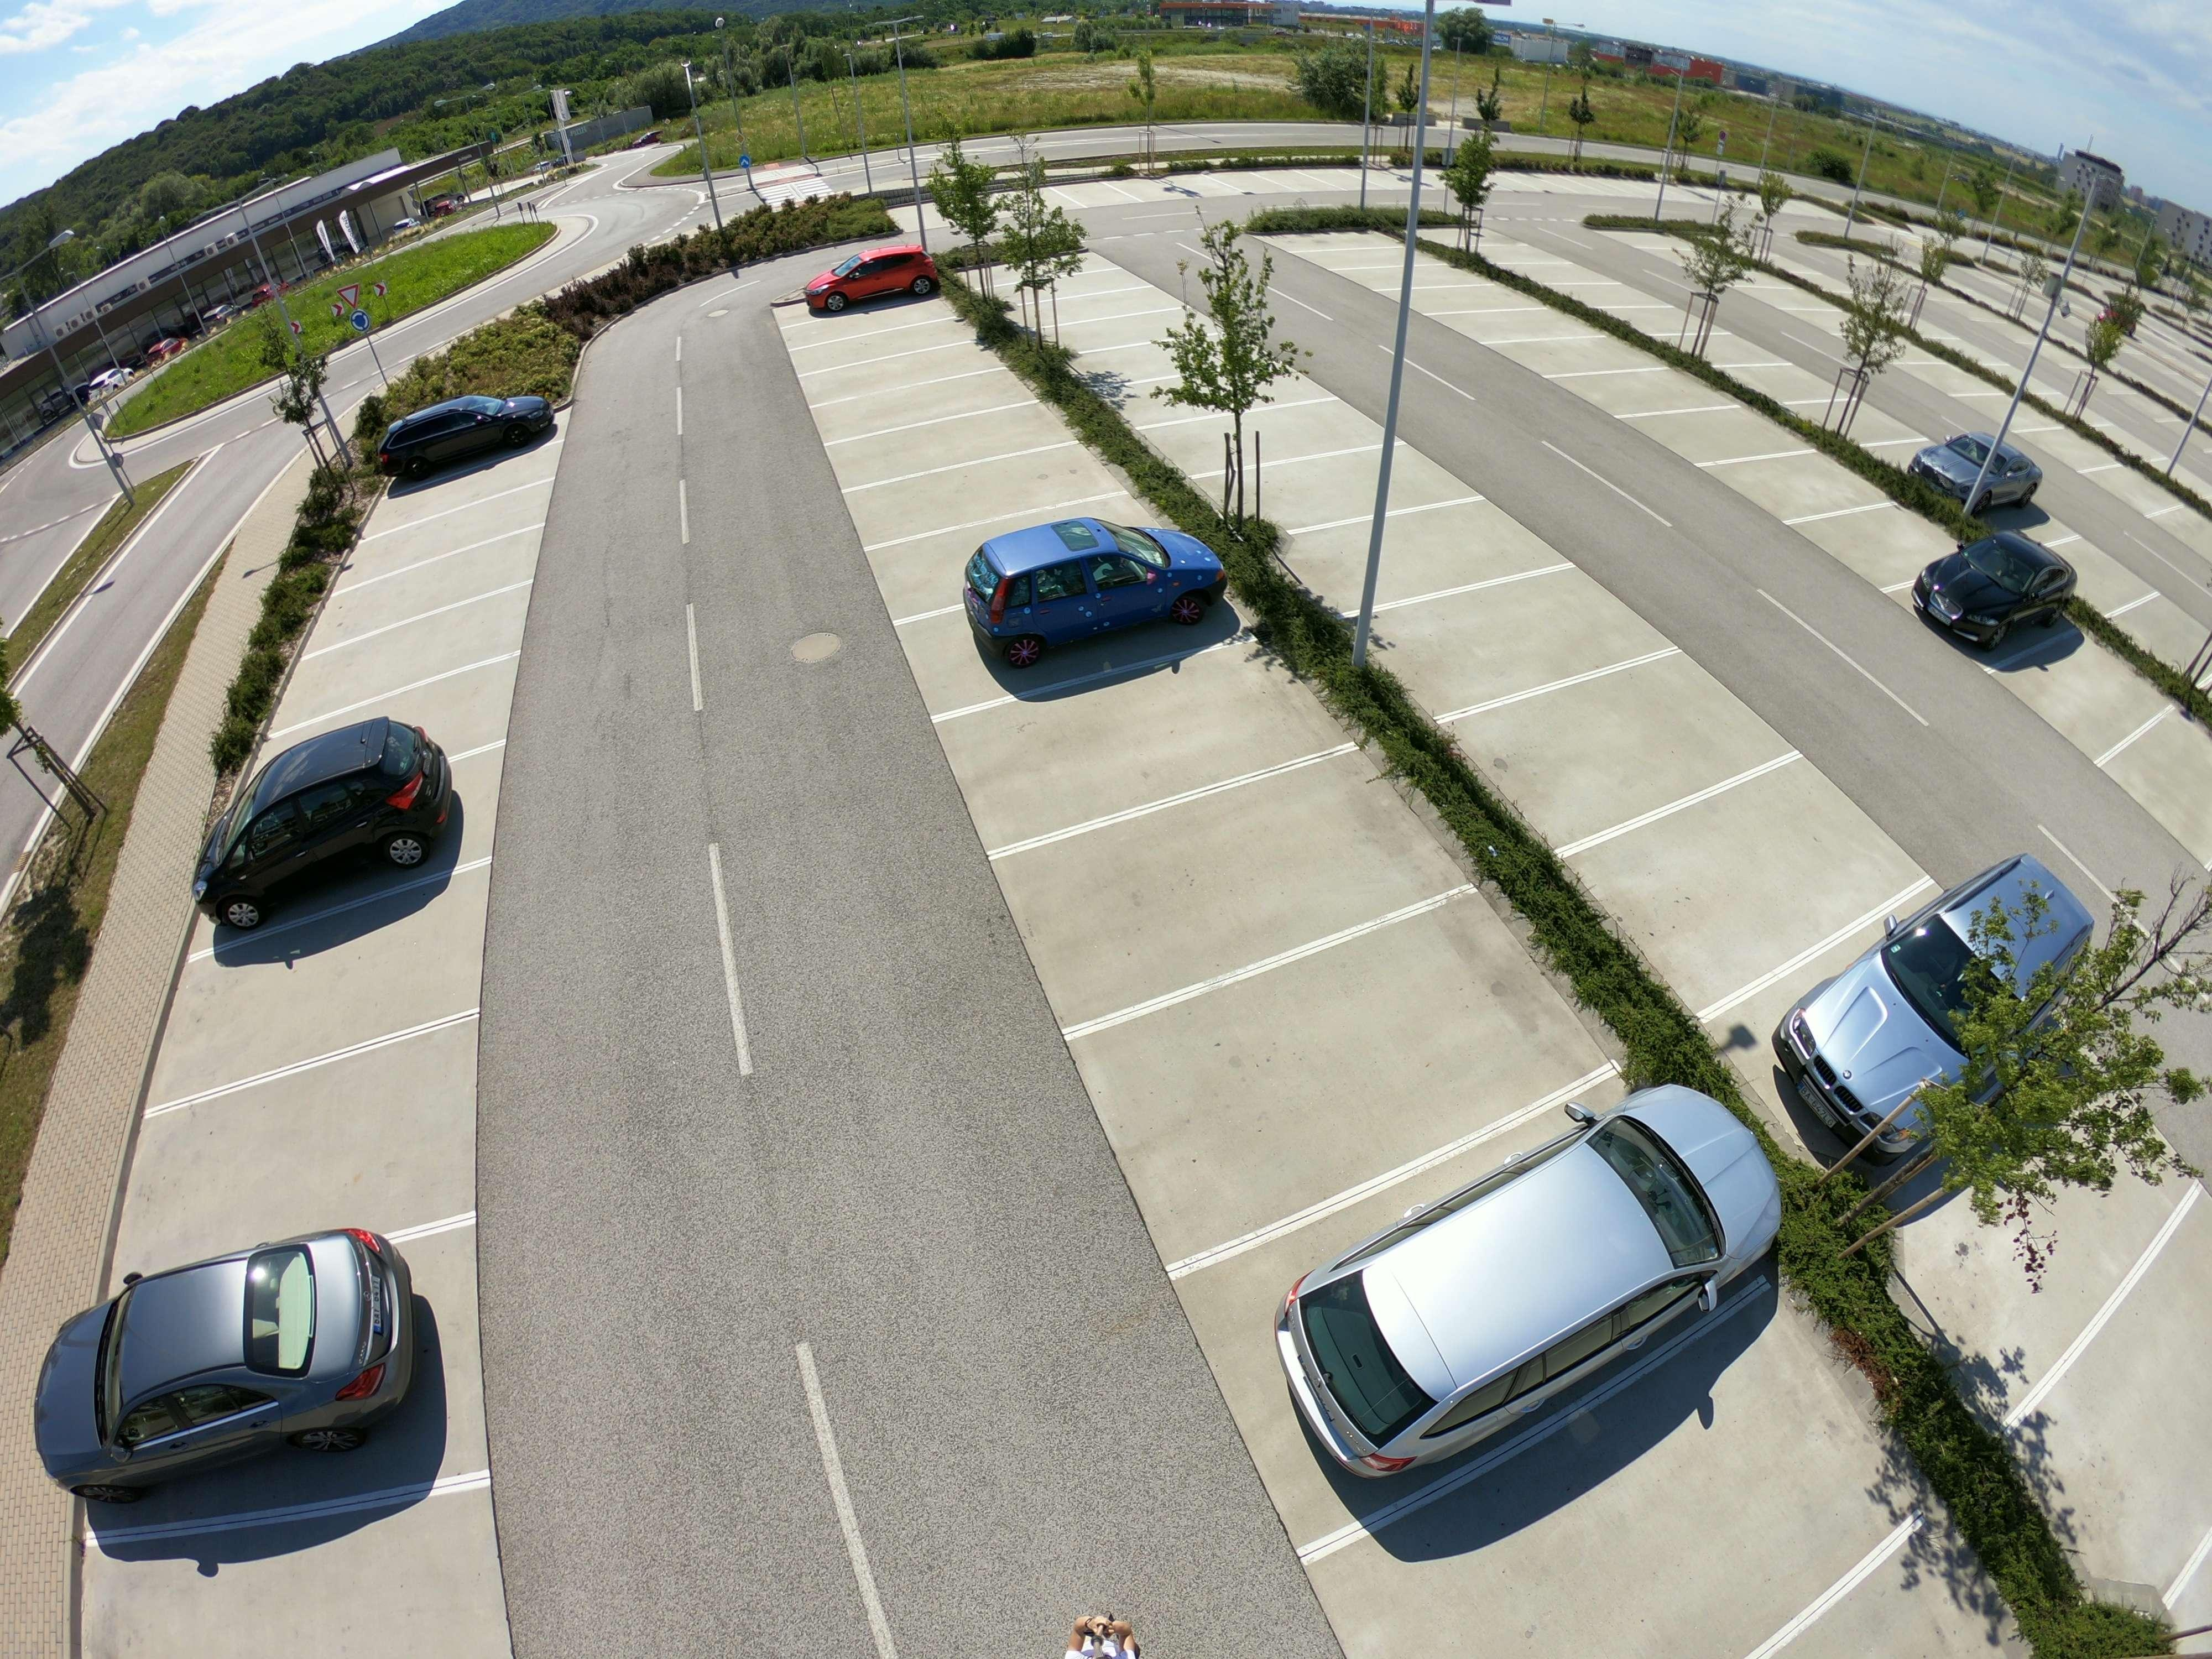empty: (1277, 1091, 1773, 1485), (1778, 866, 2116, 1140), (80, 1223, 434, 1483), (951, 509, 1231, 667), (225, 721, 446, 922), (1907, 533, 2085, 643), (366, 392, 557, 474), (1900, 436, 2043, 523), (812, 249, 951, 321)
occupied: (1456, 1457, 1775, 1645), (1907, 1154, 2135, 1344), (169, 1527, 455, 1657), (1230, 995, 1479, 1131), (230, 1089, 437, 1236), (230, 913, 444, 1018), (1136, 833, 1331, 938), (1040, 688, 1233, 788), (1676, 817, 1860, 918), (1541, 699, 1709, 782), (1318, 519, 1474, 598), (1442, 598, 1587, 676), (1251, 453, 1392, 525), (1634, 401, 1752, 467), (2038, 648, 2146, 718), (1197, 404, 1322, 462), (357, 633, 489, 683), (939, 476, 1055, 530), (359, 706, 484, 755), (1106, 362, 1204, 425), (1851, 518, 1946, 575), (1590, 364, 1684, 420), (420, 443, 500, 505), (1526, 331, 1620, 382), (2090, 462, 2170, 519), (1759, 469, 1855, 516), (902, 418, 1001, 462), (376, 566, 470, 612), (2019, 425, 2099, 476), (1078, 345, 1157, 392), (866, 385, 968, 418), (843, 357, 946, 390), (1076, 312, 1153, 354), (1458, 301, 1545, 338), (395, 518, 481, 552)
